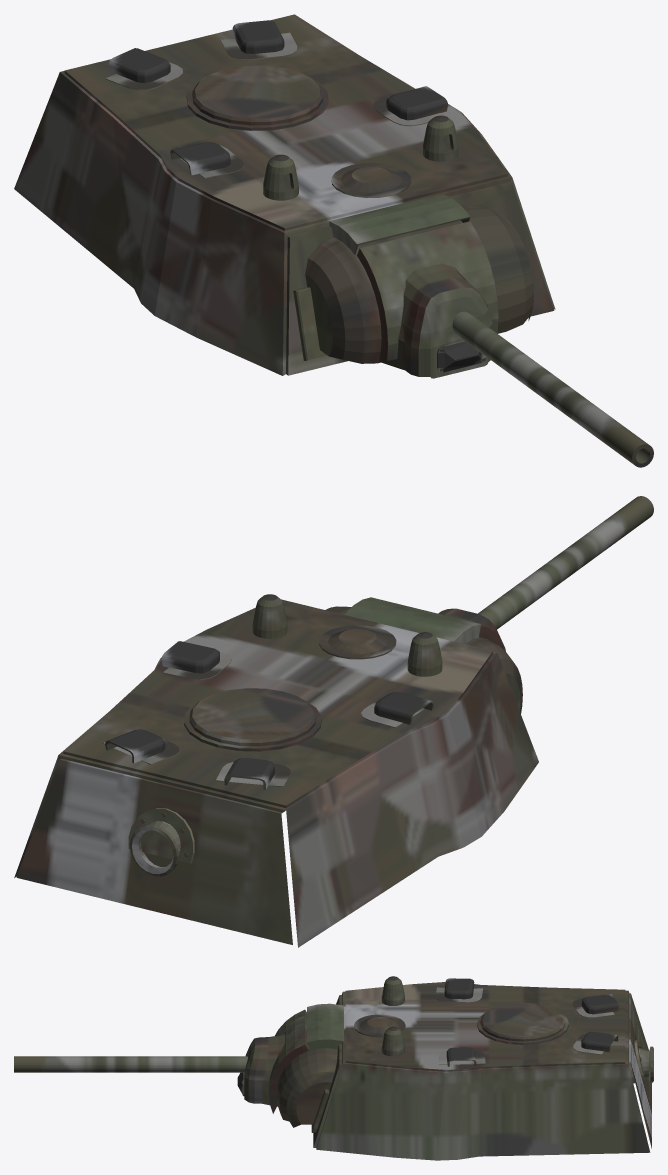
Rendered from kv1_turret_m0.obj.
3 views of the same model, one above another, from view 1: azimuth 30°, elevation 25°; view 2: azimuth 150°, elevation 25°; view 3: azimuth 270°, elevation 25° (orthographic). The views are drawn at different scales.
Visible parts, largest first — view 1: kv1_turret_m0; view 2: kv1_turret_m0; view 3: kv1_turret_m0.
Boxes of the visible parts, box(x1,y1,x2,y2) form: kv1_turret_m0: box(14, 14, 653, 467); kv1_turret_m0: box(14, 496, 653, 947); kv1_turret_m0: box(14, 976, 653, 1160).
Bounding box in the file's own units: 1.8 × 0.9066 × 4.53.
1 material, 1 textured.
